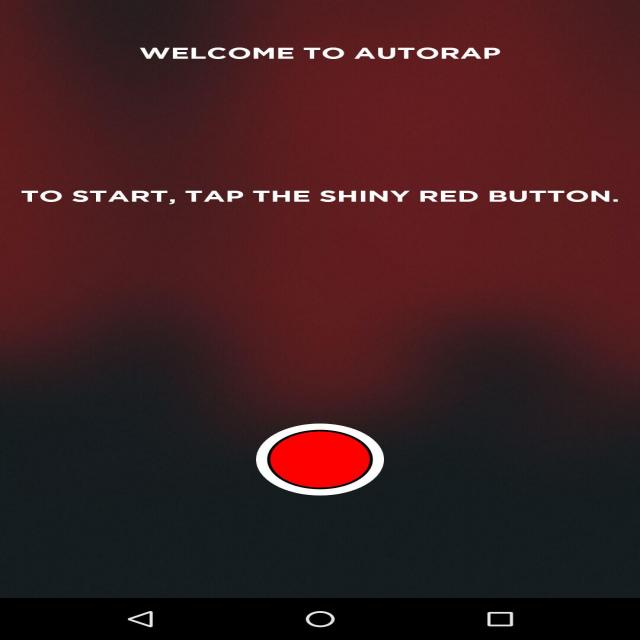icon: (250, 417, 390, 503)
image: (0, 0, 633, 602)
text: (11, 179, 627, 213), (128, 40, 524, 68)
